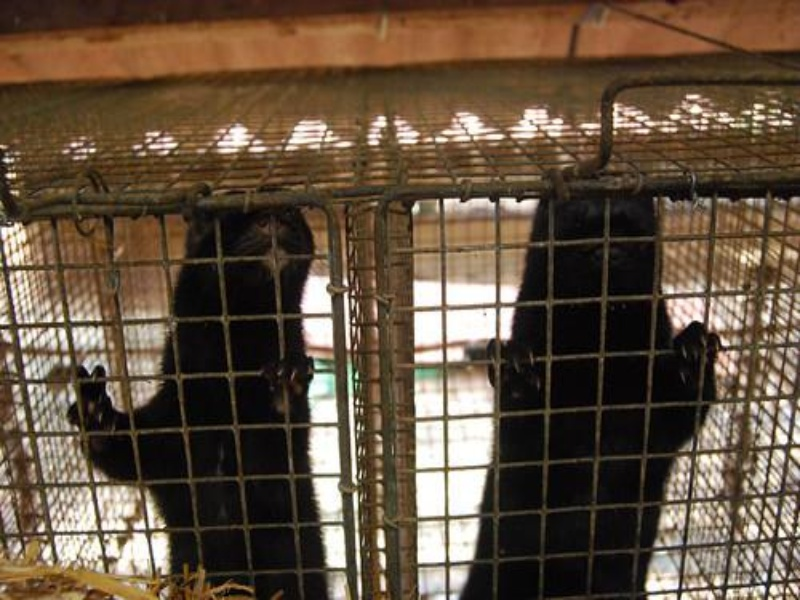minkish: (452, 162, 724, 599), (61, 184, 322, 600)
